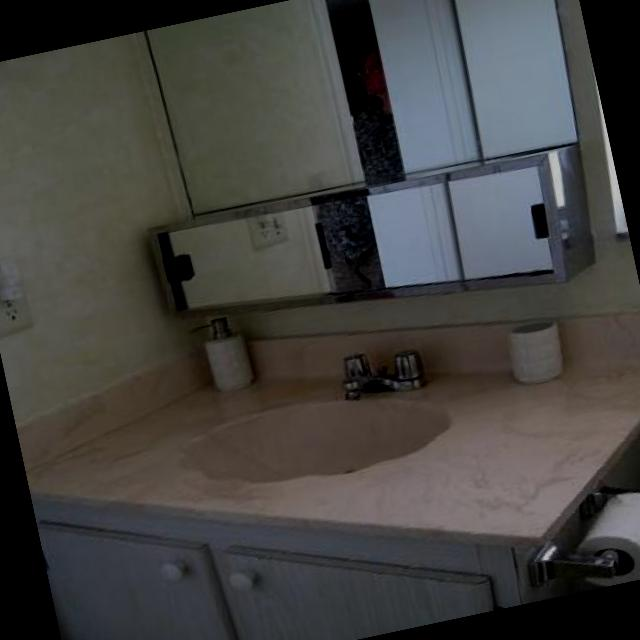Person: (284, 41, 431, 299)
